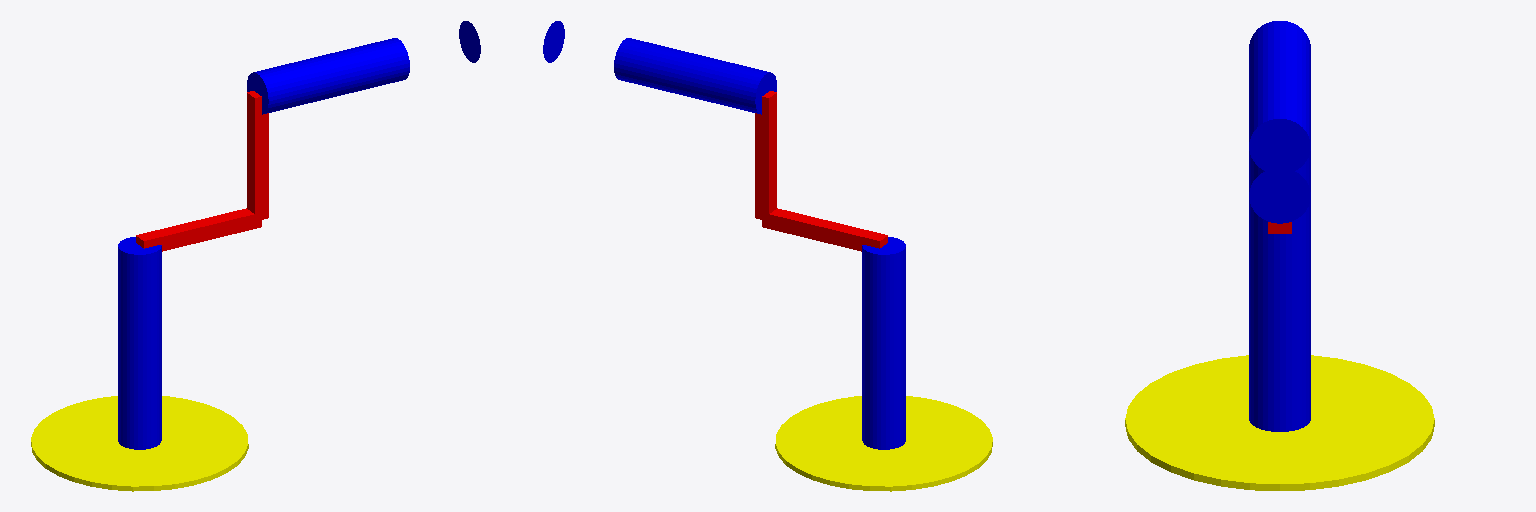
URDF robot description (simple_robot):
<robot name="simple_robot">
  <link name="base_link">
    <visual>
      <geometry>
        <cylinder length="0.01" radius="0.2"/>
      </geometry>
      <origin rpy="0 0 0" xyz="0 0 0"/>
      <material name="generic">
        <color rgba="1 1 0 1"/>
      </material>
    </visual>
  </link>
  <joint name="joint1" type="revolute">
    <parent link="base_link"/>
    <child link="link1"/>
    <origin xyz="0 0 0.0"/>
    <axis xyz="0 0 1"/>
    <limit effort="300" velocity="0.1" lower="-3.14" upper="3.14"/>
    <dynamics damping="50" friction="1"/>
  </joint>
  <link name="link1">
    <visual>
      <geometry>
        <cylinder length="0.4" radius="0.04"/>
      </geometry>
      <origin rpy="0 0 0" xyz="0 0 0.2"/>
      <material name="generic_2">
        <color rgba="0 0 1 1"/>
      </material>
    </visual>
  </link>
  <joint name="joint2" type="prismatic">
    <parent link="link1"/>
    <child link="link2"/>
    <origin xyz="0 0 0.4"/>
    <axis xyz="1 0 0"/>
    <limit effort="300" velocity="0.1" lower="-0.2" upper="0"/>
    <dynamics damping="50" friction="1"/>
  </joint>
  <link name="link2">
    <visual>
      <geometry>
        <box size="0.25 0.03 0.03"/>
      </geometry>
      <origin rpy="0 0 0" xyz="0.125 0 0"/>
      <material name="generic_5">
        <color rgba="1 0 0 1"/>
      </material>
    </visual>
  </link>
<joint name="joint3" type="prismatic">
    <parent link="link2"/>
    <child link="link3"/>
    <origin xyz="0.25 0 0"/>
    <axis xyz="0 0 -1"/>
    <limit effort="300" velocity="0.1" lower="0" upper="0.2"/>
    <dynamics damping="50" friction="1"/>
  </joint>
  <link name="link3">
    <visual>
      <geometry>
        <box size="0.25 0.03 0.03"/>
      </geometry>
      <origin rpy="0 1.57079 0" xyz="0 0 0.125"/>
      <material name="generic_5">
        <color rgba="1 0 0 1"/>
      </material>
    </visual>
  </link>
<joint name="joint4" type="revolute">
    <parent link="link3"/>
    <child link="link4"/>
    <origin xyz="0 0 0.25"/>
    <axis xyz="0 -1 0"/>
    <limit effort="300" velocity="0.1" lower="-3.14" upper="3.14"/>
    <dynamics damping="50" friction="1"/>
  </joint>
  <link name="link4">
    <visual>
      <geometry>
        <cylinder length="0.3" radius="0.04"/>
      </geometry>
      <origin rpy="0 1.57079 0" xyz="0.15 0 0"/>
      <material name="generic_2">
        <color rgba="0 0 1 1"/>
      </material>
    </visual>
  </link>
<!-- link extra-->
<joint name="joint5" type="revolute">
    <parent link="link4"/>
    <child link="link5"/>
    <origin xyz="0.3 0 0"/>
    <axis xyz="0 -1 0"/>
    <limit effort="300" velocity="0.1" lower="-3.14" upper="3.14"/>
    <dynamics damping="50" friction="1"/>
  </joint>
  <link name="link5">
    <visual>
      <geometry>
        <cylinder length="0" radius="0.04"/>
      </geometry>
      <origin rpy="0 1.57079 0" xyz="0.15 0 0"/>
      <material name="generic_2">
        <color rgba="0 0 1 1"/>
      </material>
    </visual>

  </link>
</robot>

--- Facts derived from the render (not from the file) ---
3 views of the same robot in one strip: view 1: azimuth 30°, elevation 25°; view 2: azimuth 150°, elevation 25°; view 3: azimuth 270°, elevation 25° (orthographic).
Robot: simple_robot — 6 links, 5 joints (3 revolute, 2 prismatic); root link base_link; default pose: all joints at 0.
Visible links, largest first — view 1: base_link, link1, link4, link3, link2, link5; view 2: base_link, link1, link4, link3, link2, link5; view 3: base_link, link1, link4, link5.
Link boxes in pixels (<box>): base_link: <box>31,396,248,491</box>; link1: <box>118,237,161,449</box>; link4: <box>247,38,409,114</box>; link3: <box>247,91,268,220</box>; link2: <box>136,208,261,251</box>; link5: <box>459,21,480,62</box>; base_link: <box>775,396,992,491</box>; link1: <box>862,237,905,449</box>; link4: <box>614,38,776,114</box>; link3: <box>755,91,776,220</box>; link2: <box>762,208,887,251</box>; link5: <box>543,21,564,62</box>; base_link: <box>1125,355,1434,490</box>; link1: <box>1249,151,1310,431</box>; link4: <box>1249,21,1310,170</box>; link5: <box>1249,168,1310,223</box>.
Size in the robot's own frame: 0.9 by 0.4 by 0.695 metres.
Geometry: primitives only (box / cylinder / sphere), no mesh files.